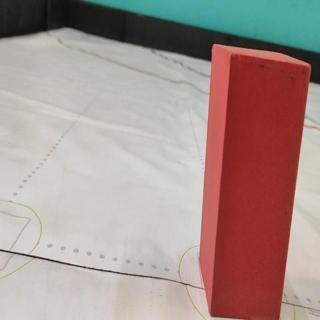redbox: (199, 42, 310, 320)
